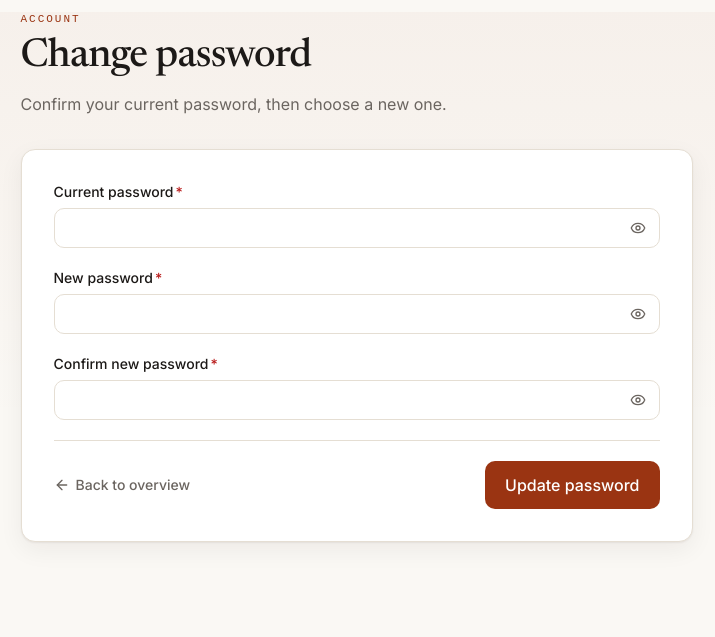
Test: ChangePassword › surfaces a failed change without losing the form
Step 1. Type "wrong-password" into the password field labelled "Current password*" → point(356, 228), box [54, 208, 660, 248]
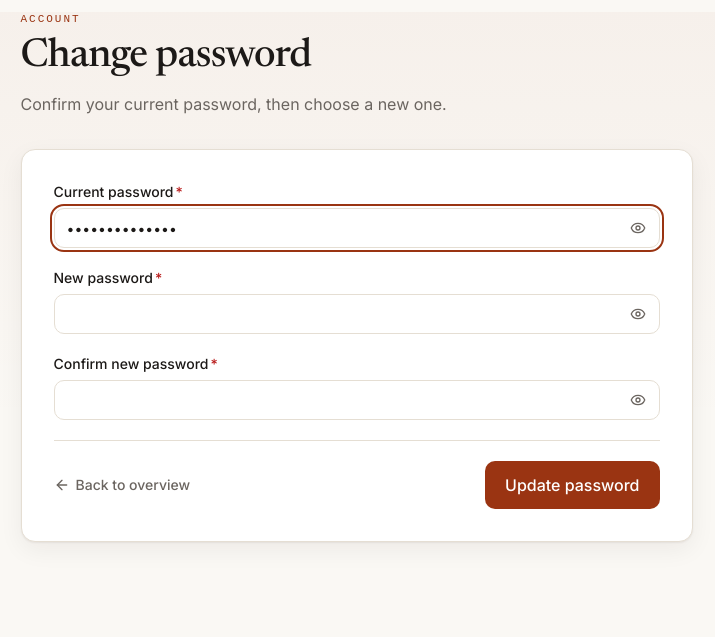
Step 2. Type "new-password" into the password field labelled "New password*" → point(356, 314), box [54, 294, 660, 334]
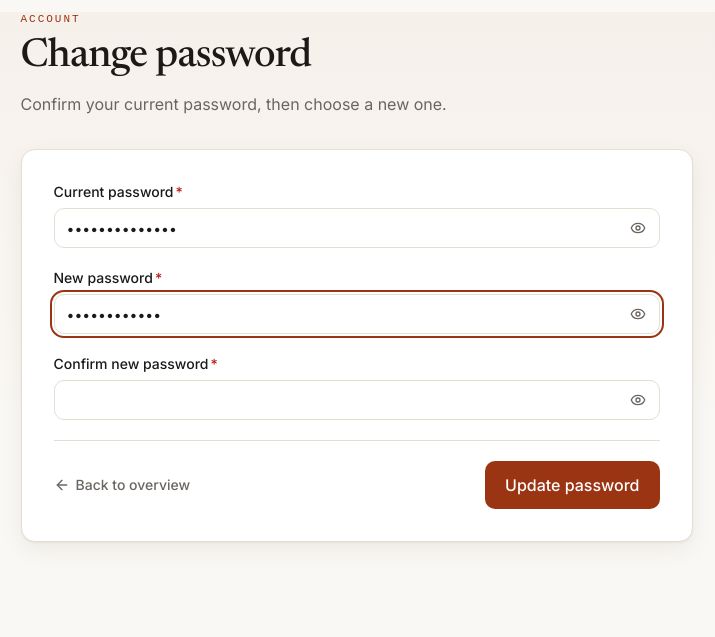
Step 3. Type "new-password" into the password field labelled "Confirm new password*" → point(356, 400), box [54, 380, 660, 420]
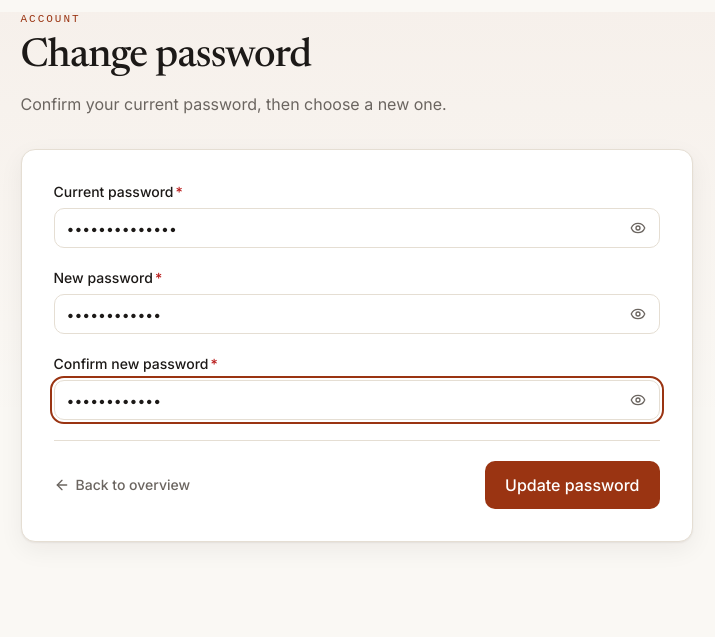
Step 4. Click the button "Update password" → point(572, 485), box [485, 461, 660, 509]
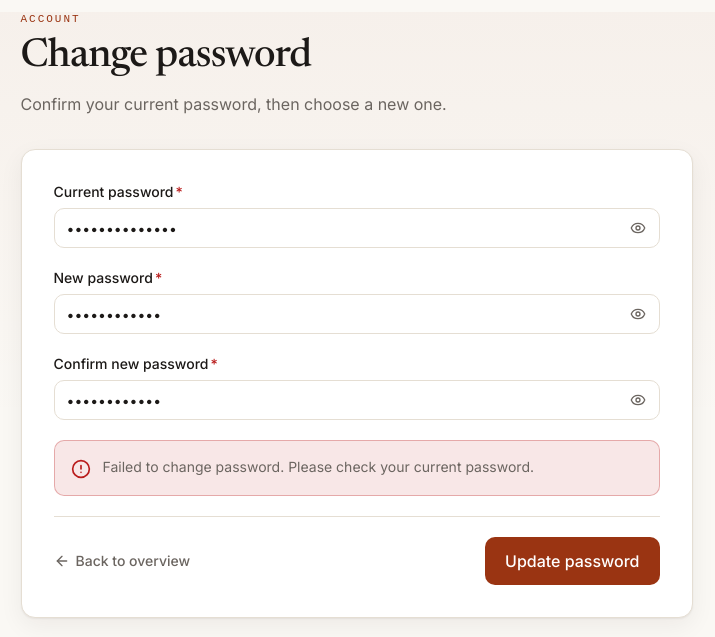
Expected: the message reads "Failed to change password. Please check your current password.", [102, 458, 534, 475]
